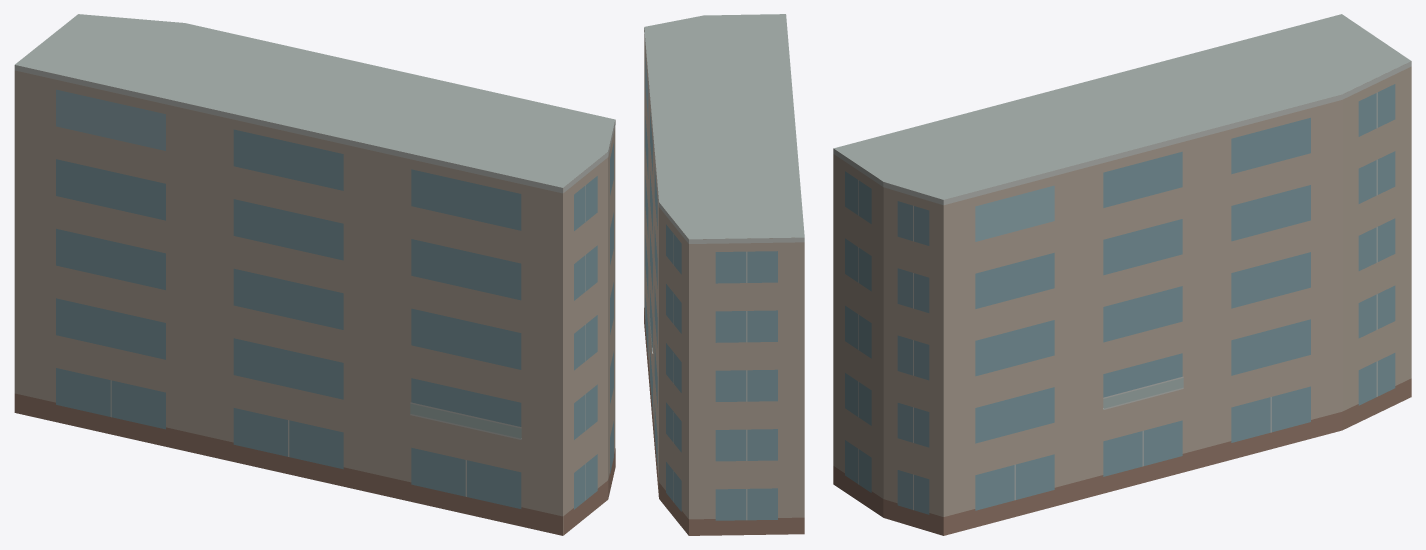
Rendered from survey-upis-32580021.glb.
3 renders of one model, left to right at view 1: azimuth 30°, elevation 25°; view 2: azimuth 150°, elevation 25°; view 3: azimuth 270°, elevation 25°, orthographic. The views are drawn at different scales.
Parts seen in each view (by area): view 1: survey-upis-32580021.tmp; view 2: survey-upis-32580021.tmp; view 3: survey-upis-32580021.tmp.
Boxes of the visible parts, <box> form: survey-upis-32580021.tmp: <box>14,14,615,535</box>; survey-upis-32580021.tmp: <box>644,14,804,535</box>; survey-upis-32580021.tmp: <box>833,14,1411,535</box>.
Bounding box in the file's own units: 18.11 × 15.25 × 23.79.
